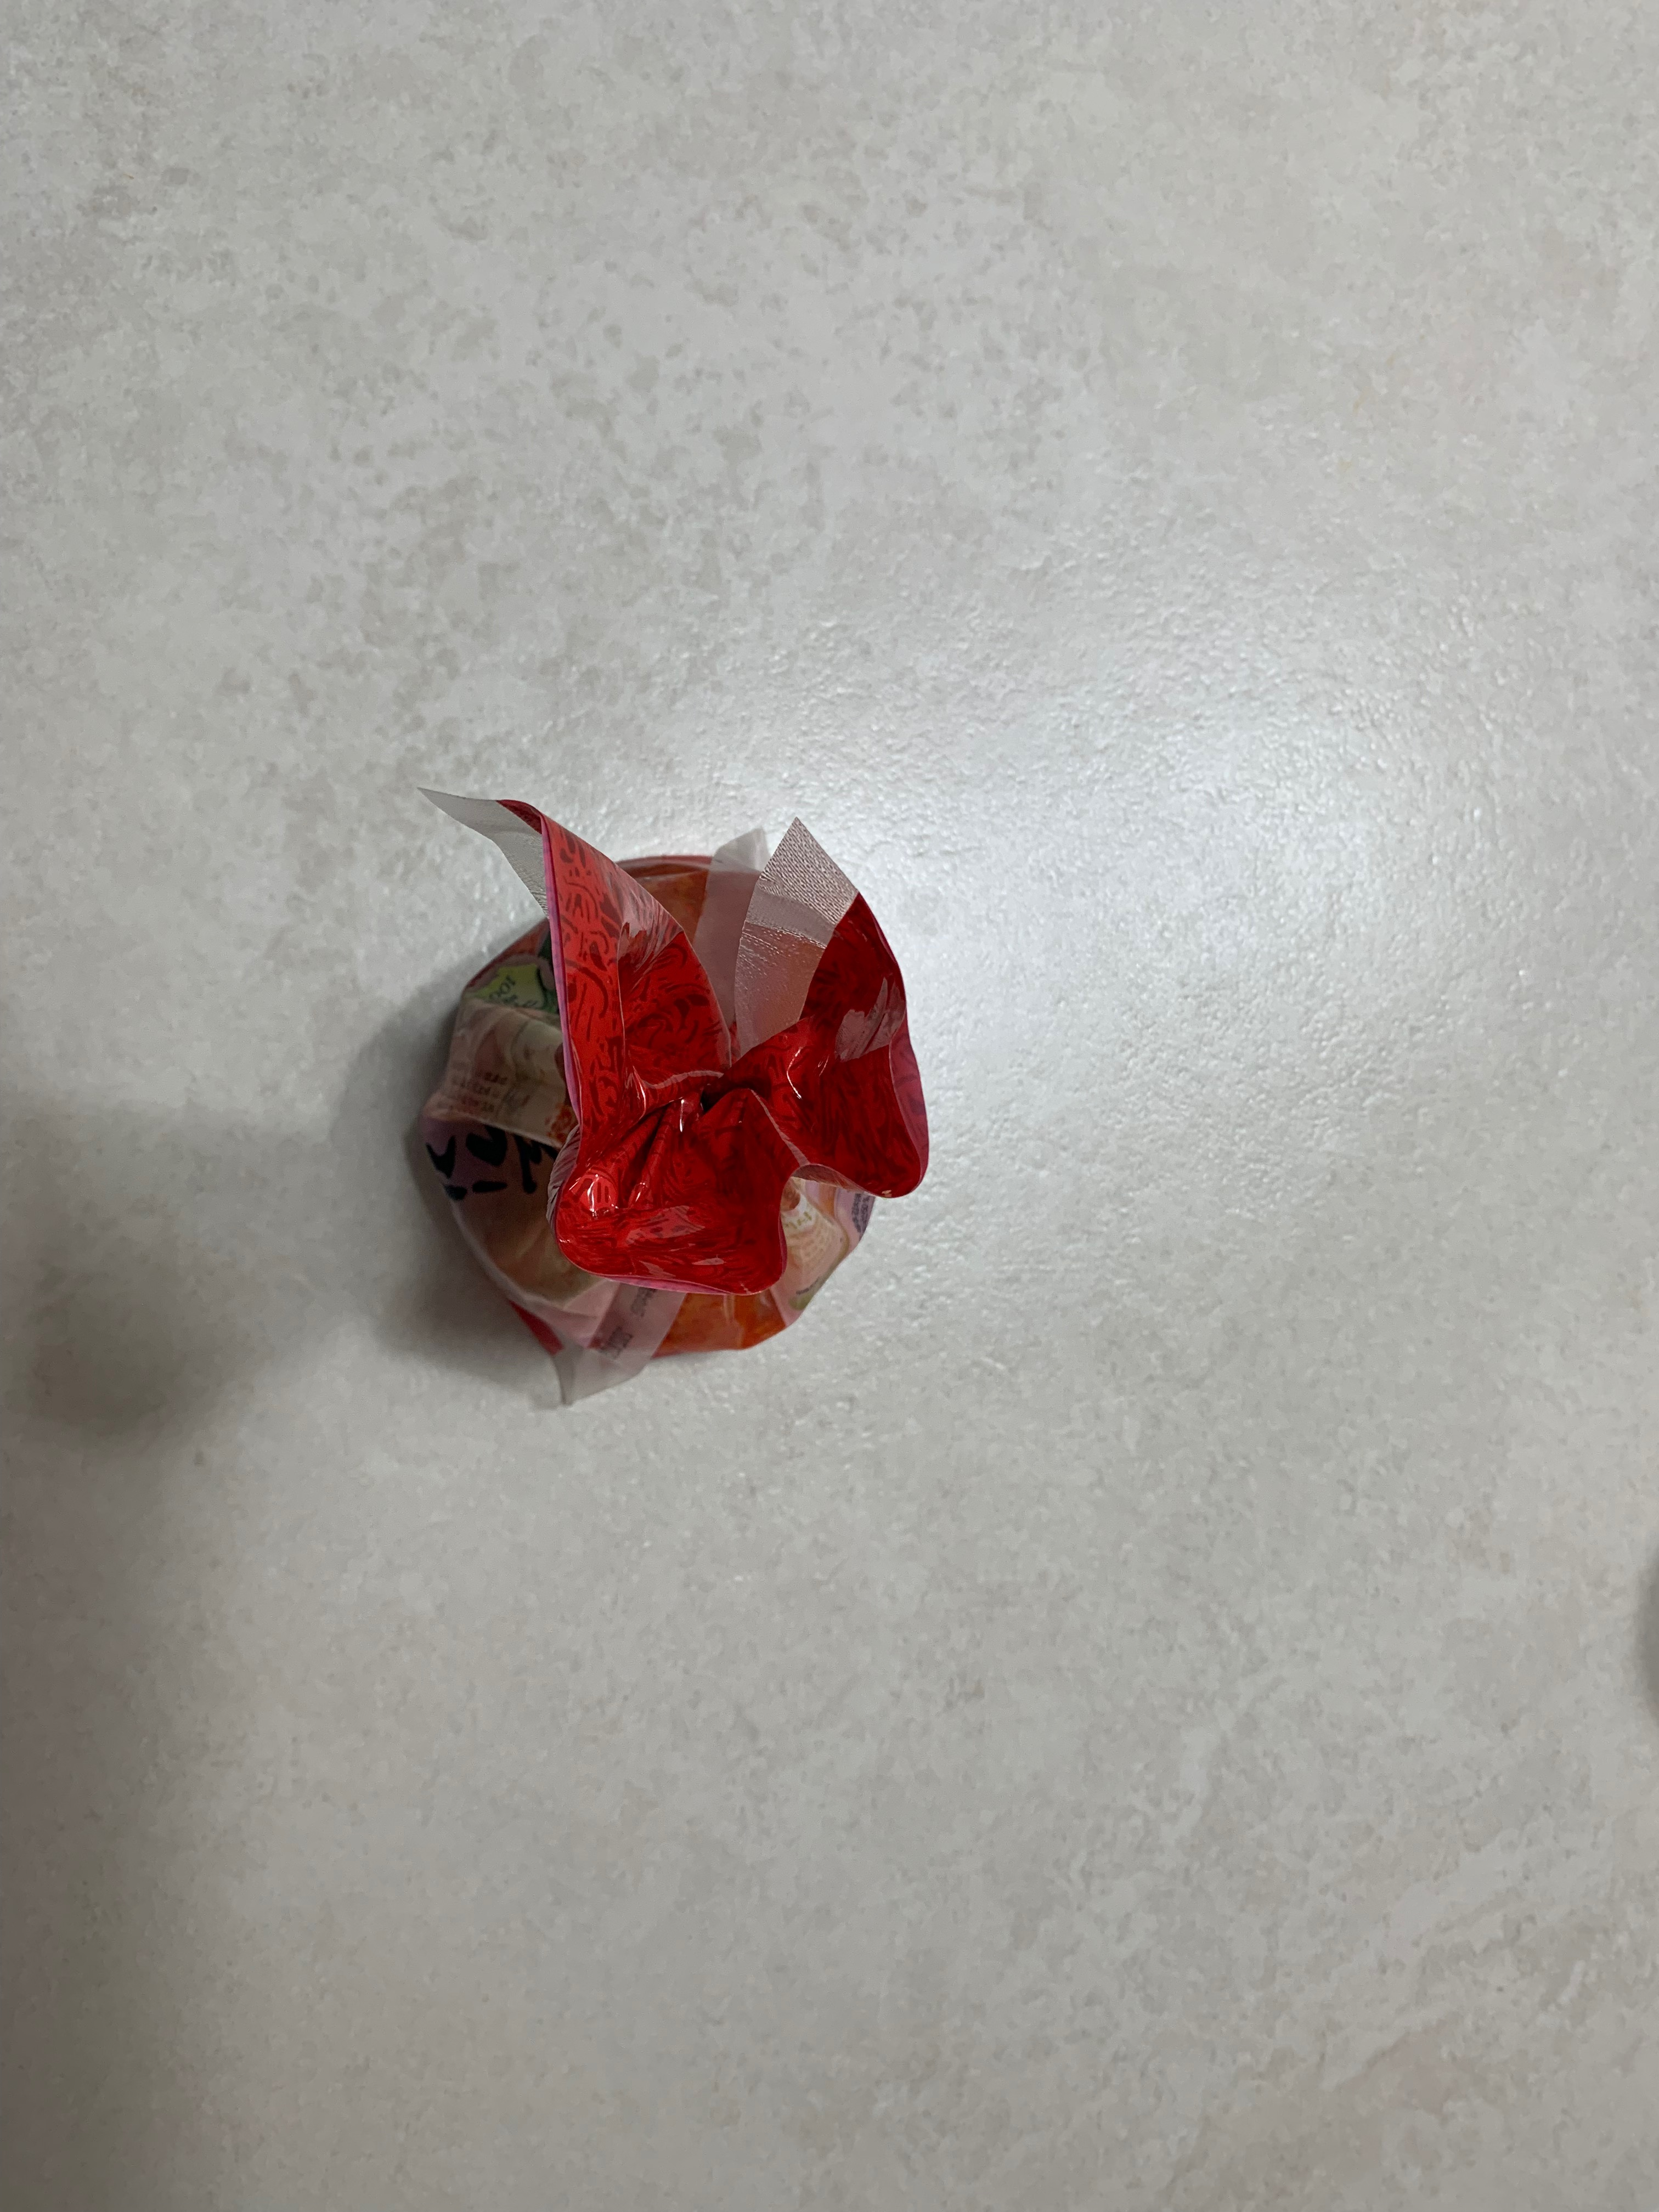kimchi: (401, 791, 931, 1413)
